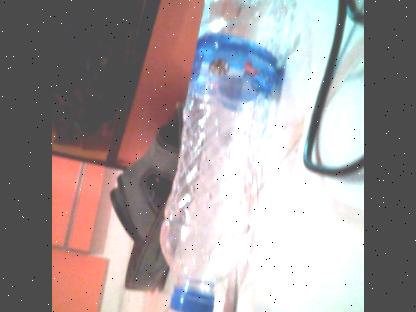Plastic Bottle: (158, 0, 303, 312)
